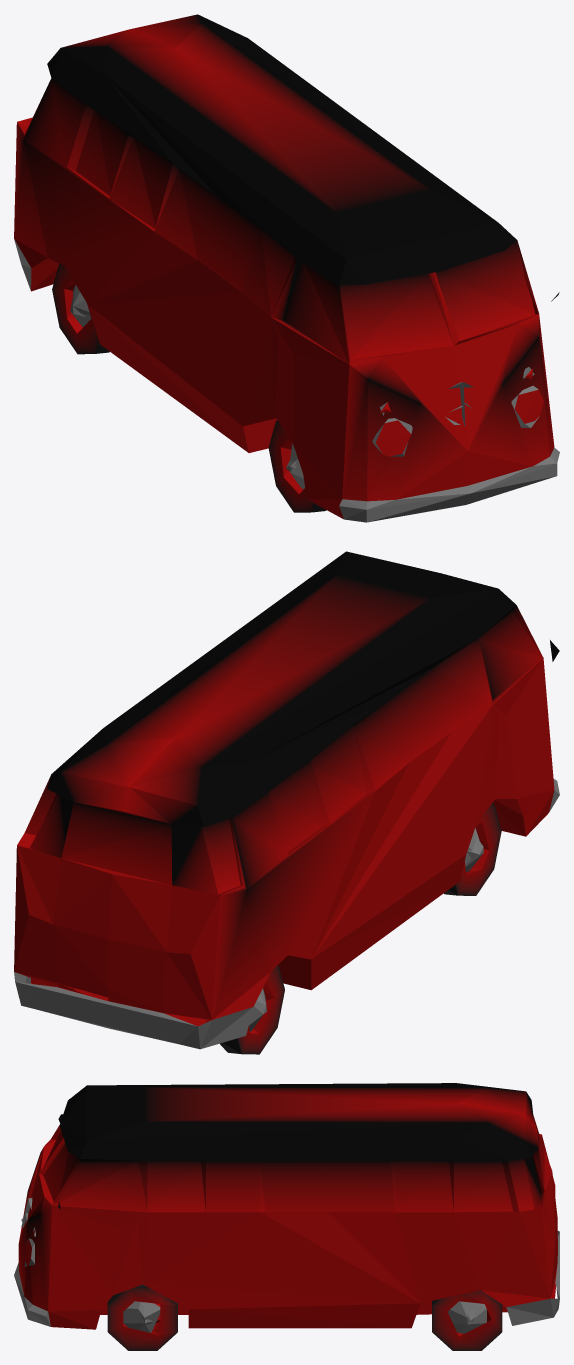
File: camper-van.lod1.glb
The picture shows the model from 3 angles, top to bottom: view 1: azimuth 30°, elevation 25°; view 2: azimuth 150°, elevation 25°; view 3: azimuth 270°, elevation 25°; orthographic projection. The views are drawn at different scales.
Visible parts, largest first — view 1: Cylinder_chrome_0; view 2: Cylinder_chrome_0; view 3: Cylinder_chrome_0.
Part boxes in pixels (x1,y1,x2,y2): Cylinder_chrome_0: (14, 14, 559, 522); Cylinder_chrome_0: (14, 551, 559, 1054); Cylinder_chrome_0: (14, 1083, 559, 1350).
Bounding box in the file's own units: 1.75 × 1.96 × 4.48.
